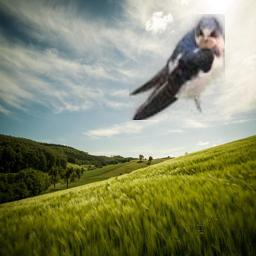Swallow: (129, 14, 225, 120)
